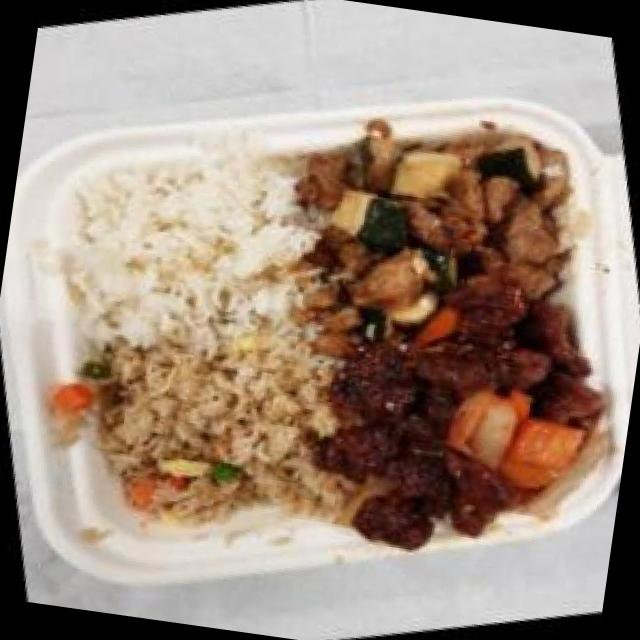Beijing Beef: (268, 253, 640, 592)
Fried Rice: (44, 276, 378, 578)
Kung Pao Chicken: (280, 79, 620, 363)
White Steamed Rice: (21, 104, 338, 380)
